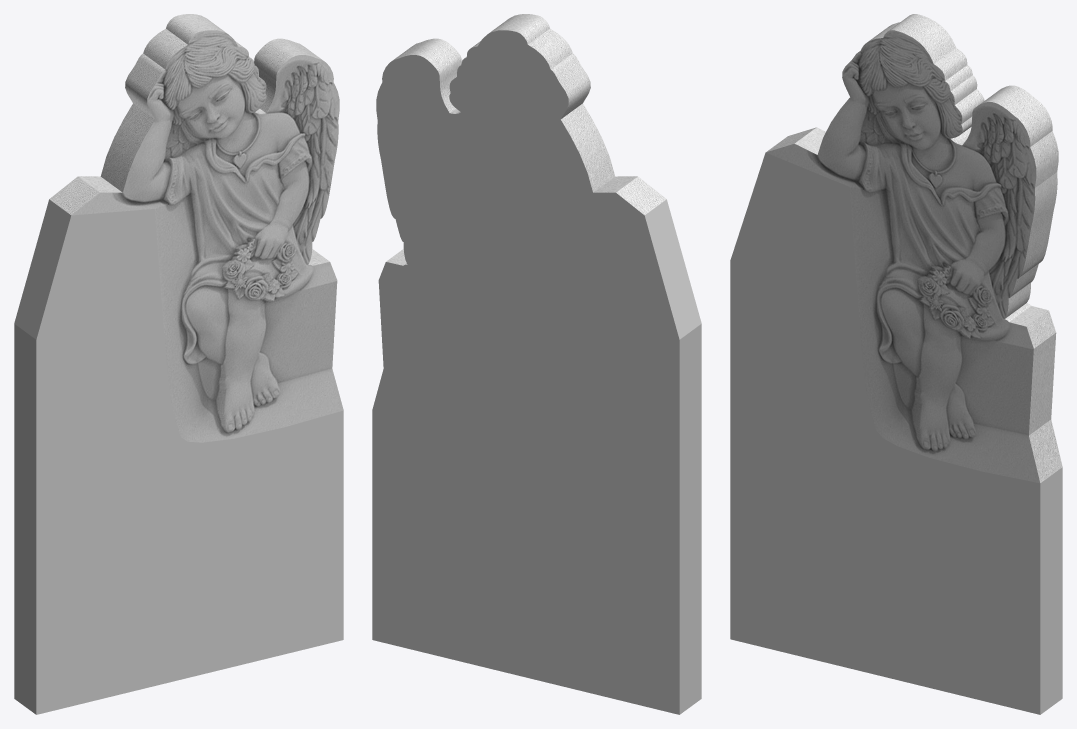
The model's file is cn9c0d284b43_tkf.glb.
3 renders of one model, left to right at view 1: azimuth 30°, elevation 25°; view 2: azimuth 150°, elevation 25°; view 3: azimuth 330°, elevation 25°, orthographic.
Visible parts, largest first — view 1: Pam-d01-066, Pam-d01-066_2_notexture; view 2: Pam-d01-066, Pam-d01-066_2_notexture; view 3: Pam-d01-066, Pam-d01-066_2_notexture.
Part boxes in pixels (x1,y1,x2,y2): Pam-d01-066: (14, 199, 343, 714); Pam-d01-066_2_notexture: (49, 14, 343, 442); Pam-d01-066: (372, 30, 701, 714); Pam-d01-066_2_notexture: (386, 14, 666, 265); Pam-d01-066: (730, 152, 1062, 714); Pam-d01-066_2_notexture: (766, 14, 1062, 483).
Bounding box in the file's own units: 0.4 × 0.8 × 0.05.
Materials: 1 (1 with a texture image).
